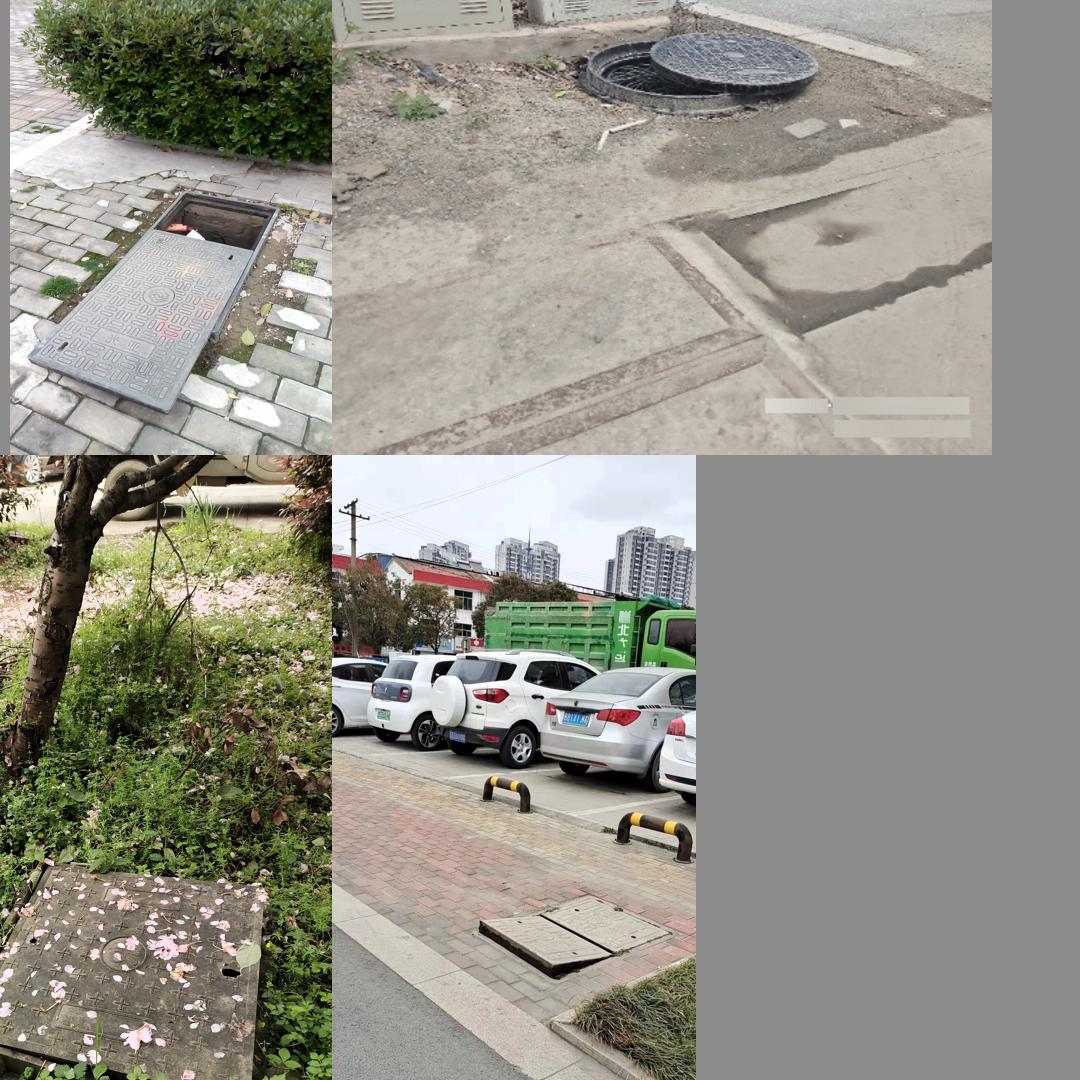uncovered: (0, 858, 272, 1080), (24, 196, 280, 395), (586, 31, 814, 108), (475, 895, 674, 980)
